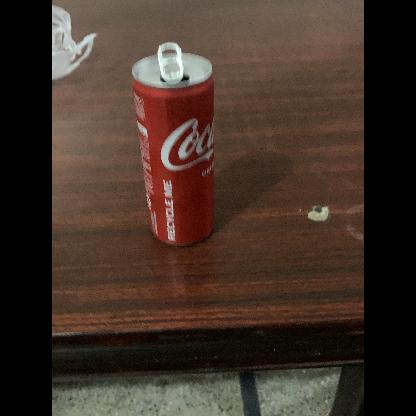Lid_Open: (152, 40, 198, 89)
Tin_Can: (126, 34, 224, 254)
